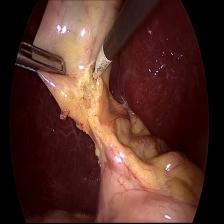Grasper: (13, 50, 69, 74)
Hook: (90, 44, 112, 86)
